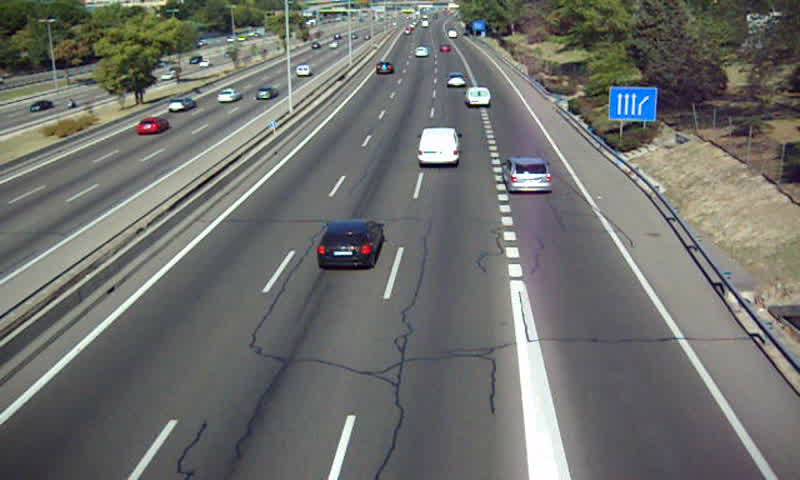car: (314, 220, 384, 271), (500, 156, 552, 192), (446, 73, 466, 87), (376, 60, 394, 75), (412, 45, 431, 57)
van: (417, 127, 459, 166), (466, 87, 491, 107)
